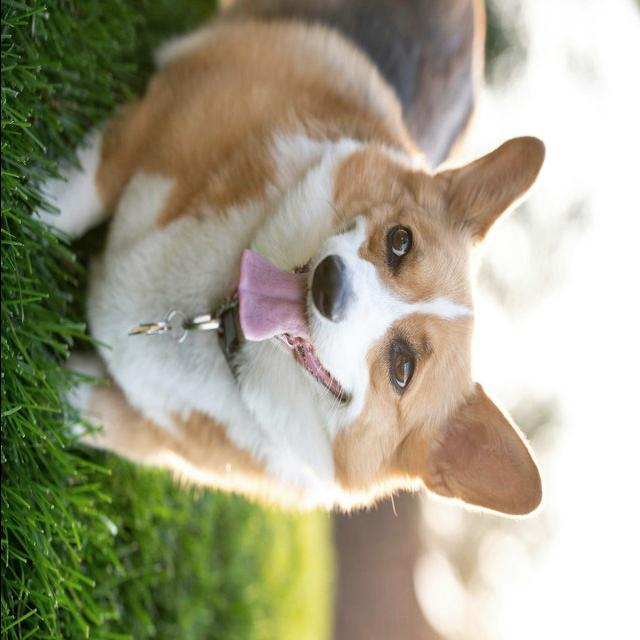corgi: (26, 2, 548, 521)
